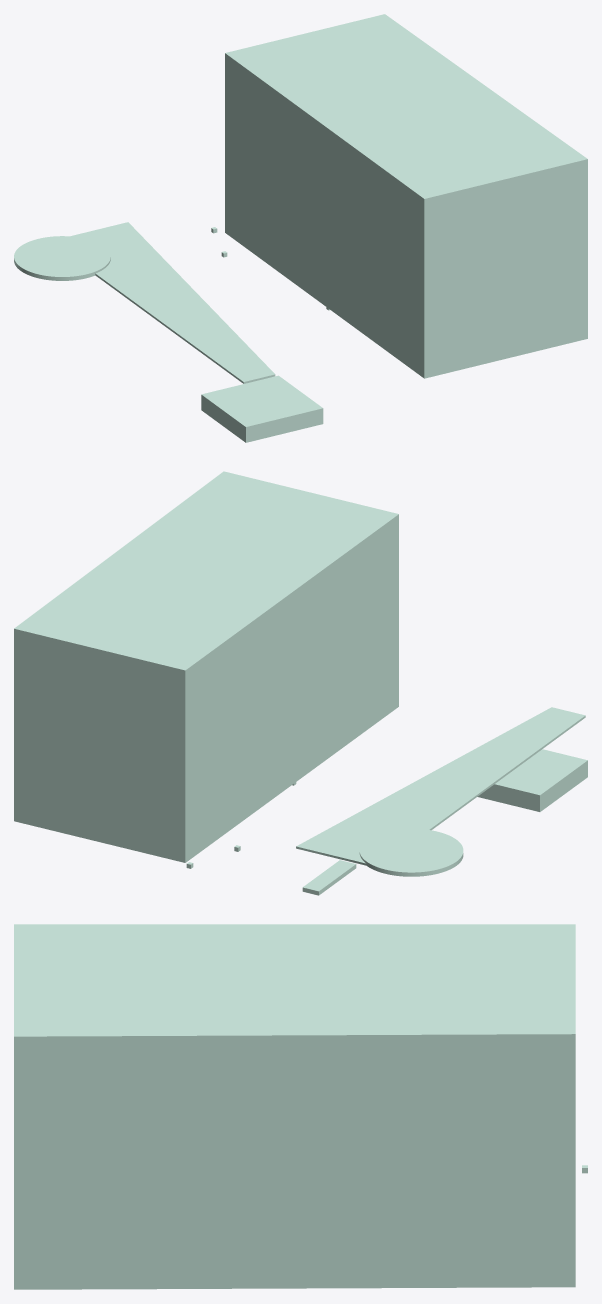
3 views of the same model, one above another, from view 1: azimuth 30°, elevation 25°; view 2: azimuth 150°, elevation 25°; view 3: azimuth 270°, elevation 25° (orthographic). The views are drawn at different scales.
Parts seen in each view (by area): view 1: Renderer Node; view 2: Renderer Node; view 3: Renderer Node.
Part boxes in pixels (x1,y1,x2,y2): Renderer Node: (14, 14, 587, 442); Renderer Node: (14, 471, 587, 895); Renderer Node: (14, 924, 587, 1289).
Bounding box in the file's own units: 1.62 × 0.7969 × 1.46.
